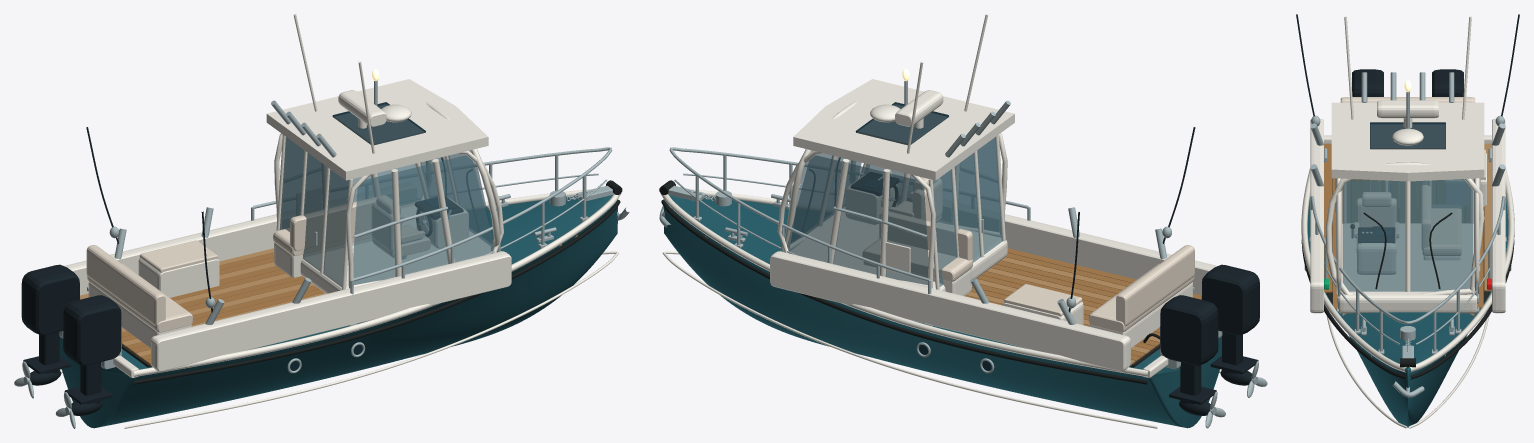
The model's file is fishing-boat.glb.
The picture shows the model from 3 angles, left to right: view 1: azimuth 30°, elevation 25°; view 2: azimuth 150°, elevation 25°; view 3: azimuth 270°, elevation 25°; orthographic projection. The views are drawn at different scales.
Visible parts, largest first — view 1: white, paint, glass, dark, cushion, steel, teak, rubber, teakLight, blackGlass; view 2: white, paint, glass, dark, cushion, steel, teak, rubber, teakLight, blackGlass; view 3: white, glass, paint, steel, cushion, dark, blackGlass, rubber, teak, teakLight, teakDark.
Boxes of the visible parts, bbox=[...] form: white: bbox=[60, 14, 621, 428]; paint: bbox=[59, 195, 617, 428]; glass: bbox=[279, 137, 494, 286]; dark: bbox=[21, 127, 463, 415]; cushion: bbox=[86, 195, 430, 332]; steel: bbox=[14, 81, 629, 428]; teak: bbox=[121, 244, 561, 365]; rubber: bbox=[134, 157, 622, 384]; teakLight: bbox=[80, 235, 577, 357]; blackGlass: bbox=[290, 102, 438, 370]; white: bbox=[661, 14, 1220, 428]; paint: bbox=[663, 195, 1221, 428]; glass: bbox=[787, 137, 1002, 286]; dark: bbox=[851, 127, 1259, 415]; cushion: bbox=[862, 177, 1194, 332]; steel: bbox=[659, 81, 1267, 428]; teak: bbox=[705, 236, 1201, 361]; rubber: bbox=[659, 157, 1160, 384]; teakLight: bbox=[966, 257, 1159, 365]; blackGlass: bbox=[855, 102, 991, 370]; white: bbox=[1301, 16, 1514, 428]; glass: bbox=[1343, 179, 1472, 291]; paint: bbox=[1307, 197, 1508, 427]; steel: bbox=[1304, 72, 1511, 397]; cushion: bbox=[1340, 97, 1485, 255]; dark: bbox=[1296, 14, 1519, 242]; blackGlass: bbox=[1370, 122, 1445, 235]; rubber: bbox=[1301, 212, 1514, 379]; teak: bbox=[1324, 143, 1483, 356]; teakLight: bbox=[1342, 143, 1491, 357]; teakDark: bbox=[1326, 178, 1489, 303].
Size of the model in its own units: 8.86 by 4.91 by 3.08.
